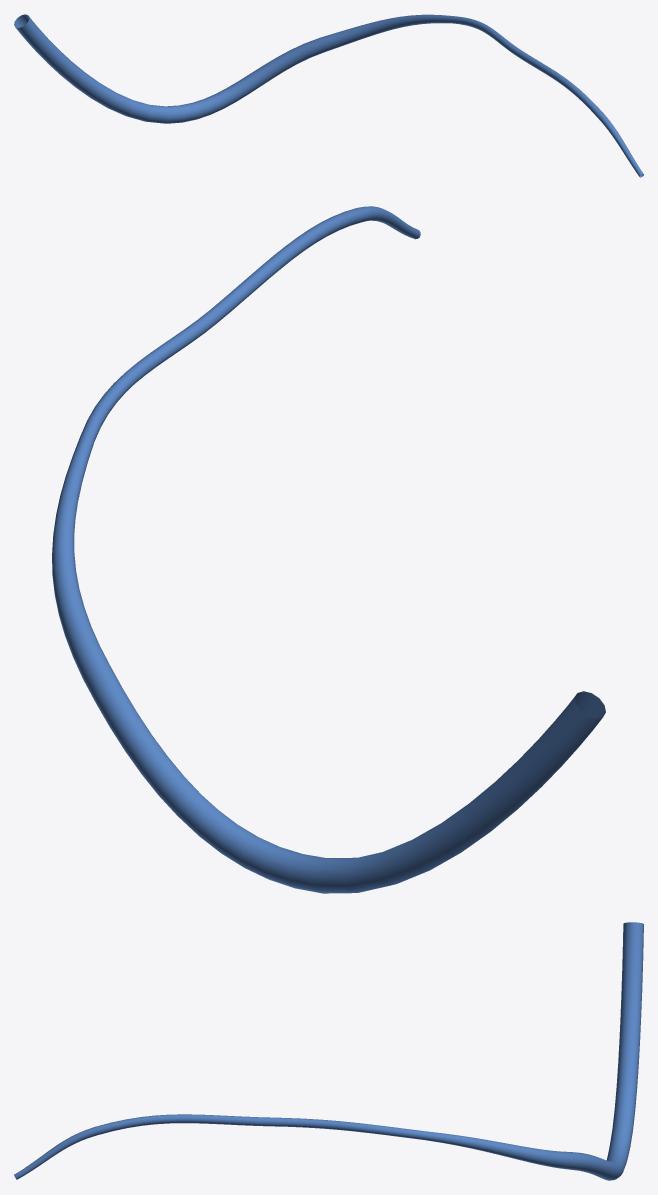
3 views of the same model, one above another, from view 1: azimuth 30°, elevation 25°; view 2: azimuth 150°, elevation 25°; view 3: azimuth 270°, elevation 25° (orthographic). The views are drawn at different scales.
Parts seen in each view (by area): view 1: 右侧颈前静脉; view 2: 右侧颈前静脉; view 3: 右侧颈前静脉.
Boxes of the visible parts, x1=… form: 右侧颈前静脉: x1=14, y1=14, x2=643, y2=177; 右侧颈前静脉: x1=52, y1=206, x2=605, y2=893; 右侧颈前静脉: x1=14, y1=922, x2=643, y2=1180.
Size of the model in its own units: 0.0484 by 0.0176 by 0.0629.
